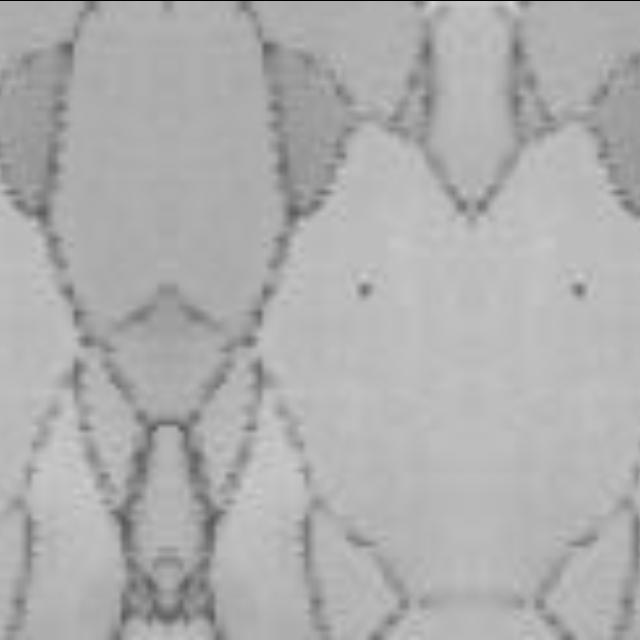good_void: (347, 268, 390, 306), (556, 268, 599, 306)
